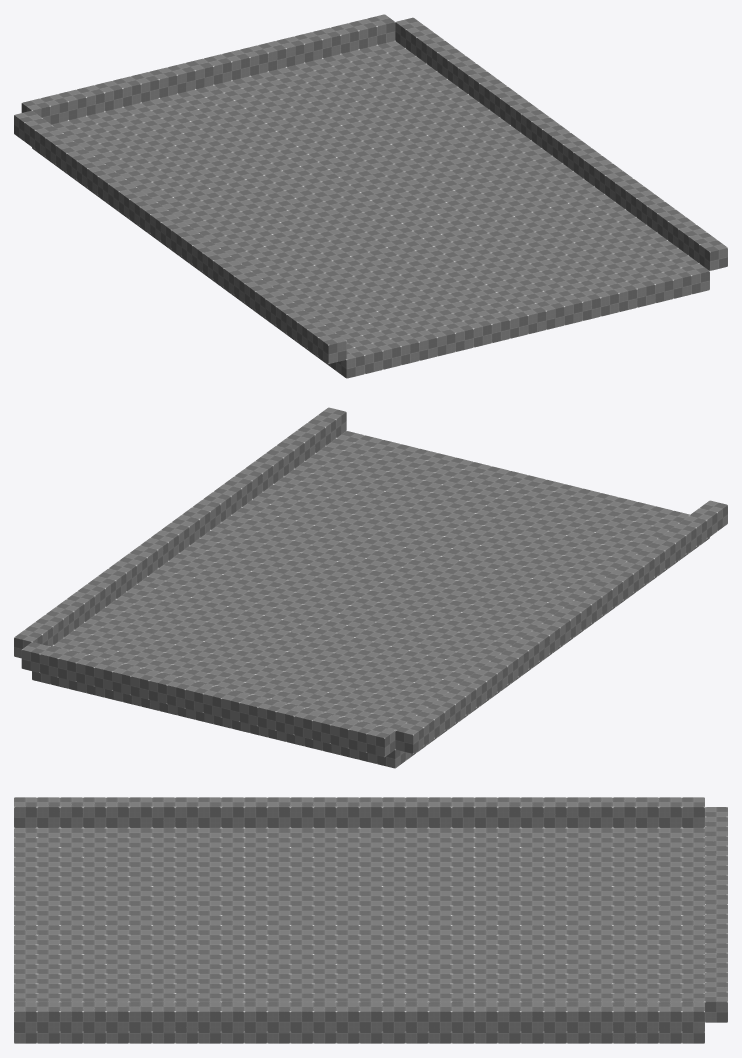
The picture shows the model from 3 angles, top to bottom: view 1: azimuth 30°, elevation 25°; view 2: azimuth 150°, elevation 25°; view 3: azimuth 270°, elevation 25°; orthographic projection. The views are drawn at different scales.
Visible parts, largest first — view 1: Cube.008, Cube.009, Cube.004, Cube.003, Cube.002, Cube.001, Cube.006, Cube.005, Cube.014, Cube.015, Cube.011, Cube.010 (+2 smaller); view 2: Cube.004, Cube.008, Cube.003, Cube.009, Cube.001, Cube.002, Cube.005, Cube.006, Cube.010, Cube.013, Cube.014, Cube.012 (+2 smaller); view 3: Cube.001, Cube.002, Cube.009, Cube.004, Cube.003, Cube.008, Cube.012, Cube.013, Cube.015, Cube.010, Cube.011, Cube.014 (+2 smaller).
Boxes of the visible parts, left/top/right/bottom form: Cube.008: left=424, top=194, right=709, bottom=334; Cube.009: left=242, top=238, right=528, bottom=378; Cube.004: left=319, top=117, right=604, bottom=238; Cube.003: left=214, top=41, right=499, bottom=161; Cube.002: left=32, top=85, right=317, bottom=224; Cube.001: left=137, top=162, right=422, bottom=301; Cube.006: left=203, top=14, right=395, bottom=84; Cube.005: left=21, top=58, right=213, bottom=124; Cube.014: left=223, top=264, right=346, bottom=363; Cube.015: left=605, top=171, right=727, bottom=270; Cube.011: left=119, top=187, right=241, bottom=286; Cube.010: left=14, top=110, right=136, bottom=210; Cube.004: left=137, top=507, right=422, bottom=628; Cube.008: left=242, top=431, right=527, bottom=551; Cube.003: left=32, top=584, right=318, bottom=724; Cube.009: left=423, top=475, right=709, bottom=614; Cube.001: left=319, top=552, right=604, bottom=691; Cube.002: left=213, top=628, right=499, bottom=768; Cube.005: left=203, top=686, right=395, bottom=757; Cube.006: left=21, top=642, right=213, bottom=712; Cube.010: left=395, top=654, right=518, bottom=753; Cube.013: left=14, top=561, right=136, bottom=658; Cube.014: left=605, top=500, right=727, bottom=600; Cube.012: left=119, top=484, right=241, bottom=583; Cube.001: left=244, top=828, right=474, bottom=925; Cube.002: left=474, top=828, right=704, bottom=925; Cube.009: left=14, top=828, right=244, bottom=925; Cube.004: left=244, top=925, right=474, bottom=1043; Cube.003: left=474, top=925, right=704, bottom=1043; Cube.008: left=14, top=925, right=244, bottom=1043; Cube.012: left=244, top=1001, right=474, bottom=1032; Cube.013: left=474, top=1001, right=704, bottom=1032; Cube.015: left=14, top=1001, right=244, bottom=1032; Cube.010: left=474, top=797, right=704, bottom=827; Cube.011: left=244, top=797, right=474, bottom=827; Cube.014: left=14, top=797, right=244, bottom=827.
Size of what is drawn, in the model's own units: 2200 by 200 by 3100.
1 material, 1 textured.
